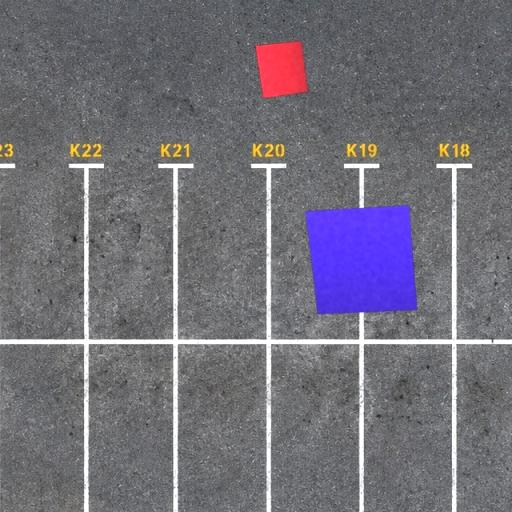BLUE_SQUARE: (304, 204, 418, 315)
RED_SQUARE: (254, 40, 309, 99)
